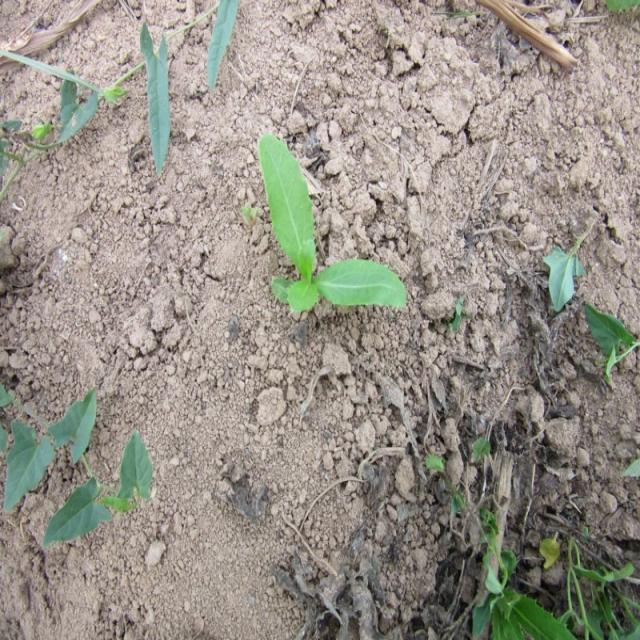field_thistle: (250, 131, 410, 368)
